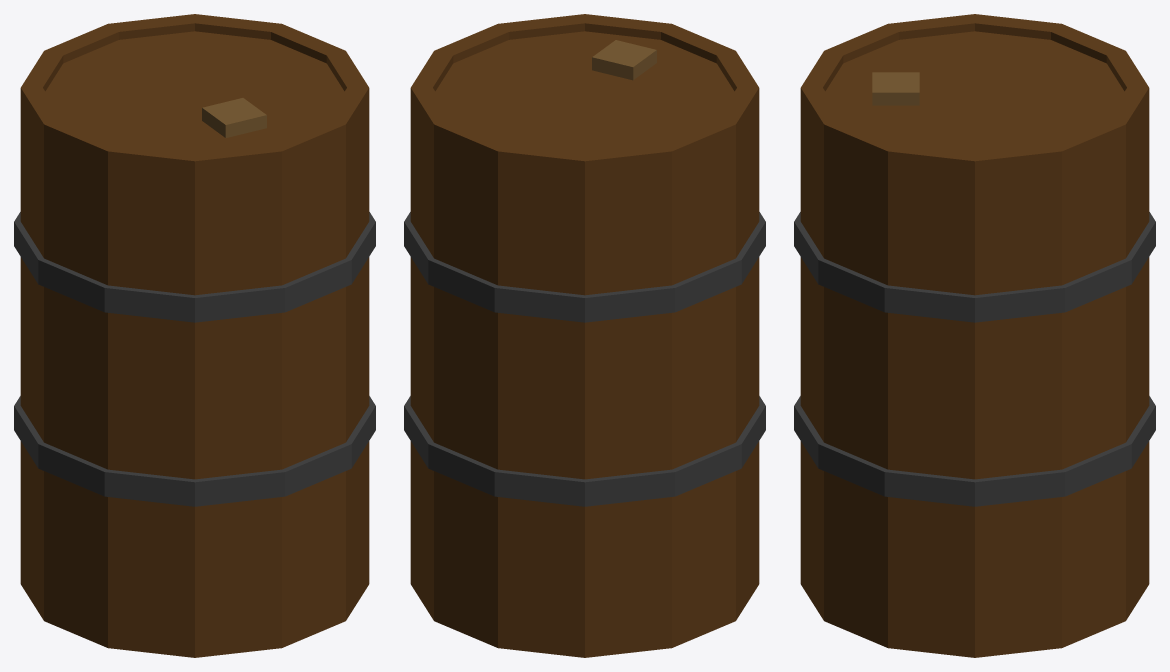
The model's file is WoodBarrel_Straight.fbx.
3 renders of one model, left to right at view 1: azimuth 30°, elevation 25°; view 2: azimuth 150°, elevation 25°; view 3: azimuth 270°, elevation 25°, orthographic.
Parts seen in each view (by area): view 1: WoodBarrel_Straight; view 2: WoodBarrel_Straight; view 3: WoodBarrel_Straight.
Part boxes in pixels (x1,y1,x2,y2): WoodBarrel_Straight: [14, 14, 375, 657]; WoodBarrel_Straight: [404, 14, 765, 657]; WoodBarrel_Straight: [794, 14, 1155, 657].
Bounding box in the file's own units: 101 × 155 × 101.
